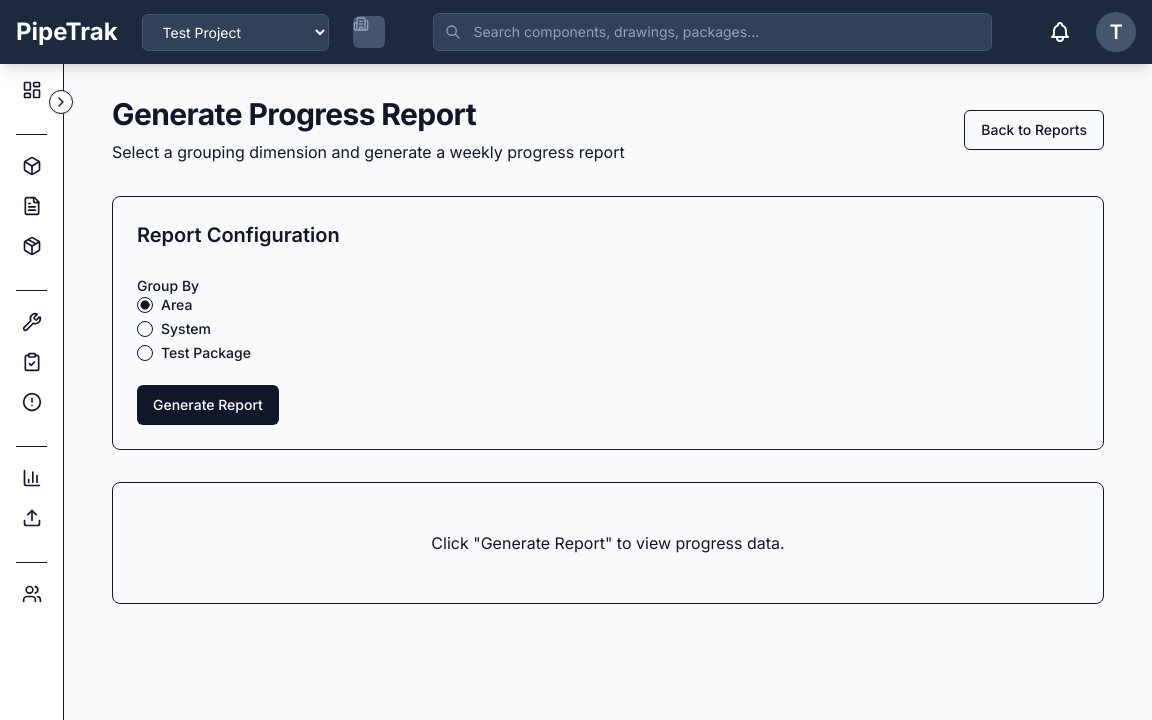
Dimension Switching (Integration) › switches to System dimension and displays correct data
# Switch to System dimension
Click the radio button named "System" next to "System" at coordinates (145, 329), box [137,321,153,337]
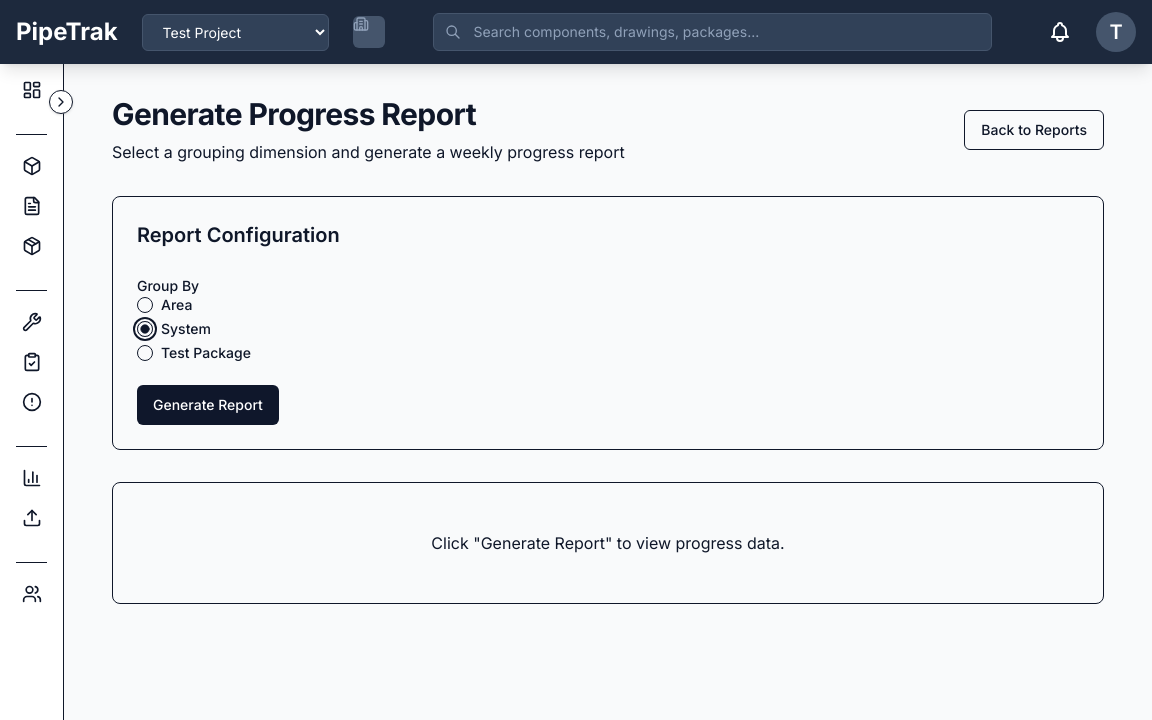
# Generate report
Click the button "Generate Report" at coordinates (208, 405), box [137,385,279,425]
(page scrolled)
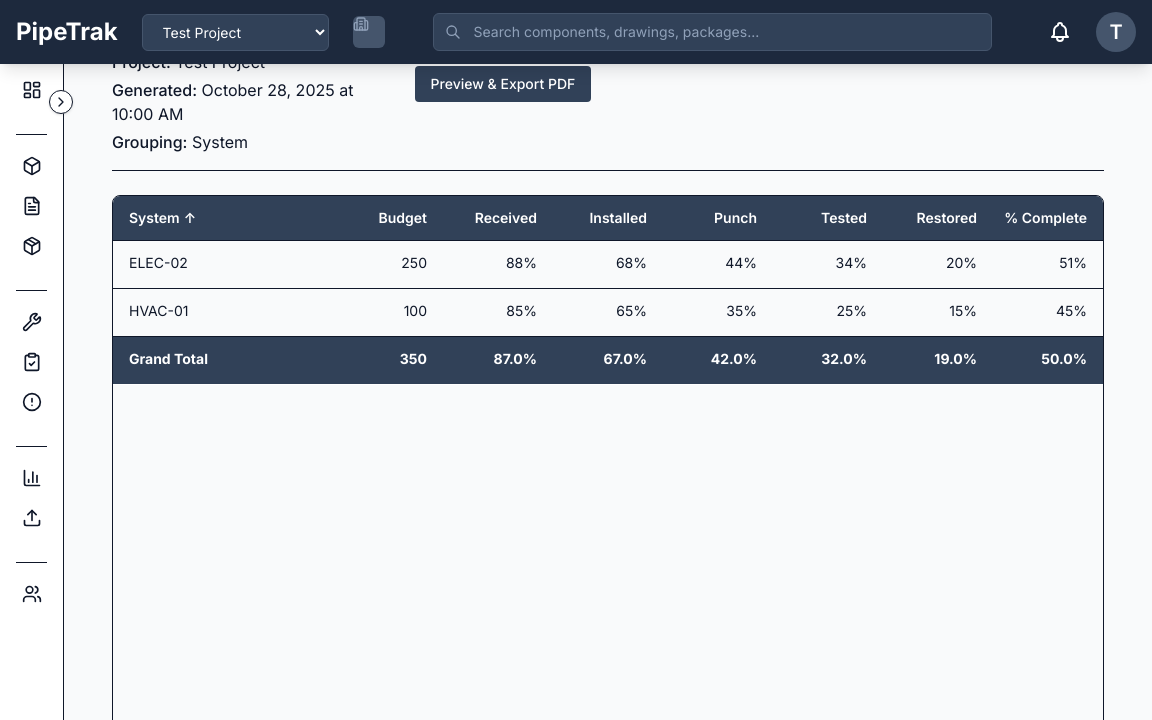
Result: the text "HVAC-01" is shown at [129,302,188,319]
Result: the text "ELEC-02" is shown at [129,254,188,271]
Result: the text "Grand Total" is shown at [129,350,208,367]
